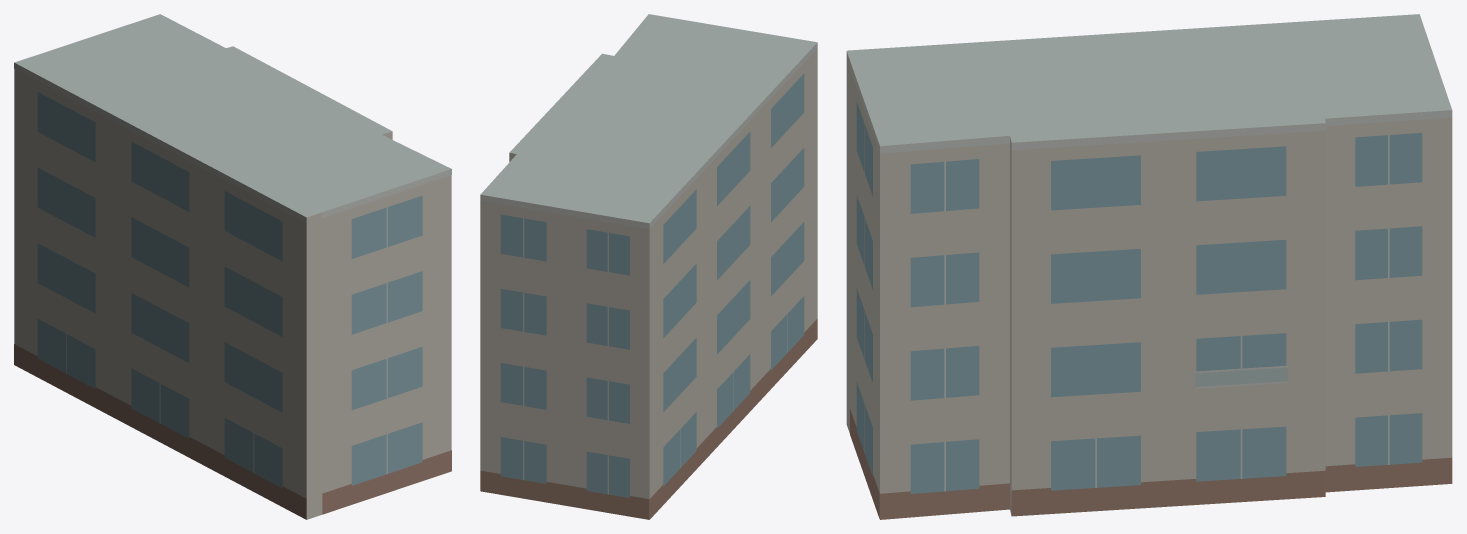
File: survey-upis-32705922.glb
The picture shows the model from 3 angles, left to right: view 1: azimuth 30°, elevation 25°; view 2: azimuth 150°, elevation 25°; view 3: azimuth 270°, elevation 25°; orthographic projection. The views are drawn at different scales.
Visible parts, largest first — view 1: survey-upis-32705922.tmp; view 2: survey-upis-32705922.tmp; view 3: survey-upis-32705922.tmp.
Part boxes in pixels (box(x1,y1,x2,y2)): survey-upis-32705922.tmp: box(14, 14, 451, 519); survey-upis-32705922.tmp: box(480, 14, 817, 519); survey-upis-32705922.tmp: box(846, 14, 1452, 519).
Size of the model in its own units: 9.27 by 12.2 by 17.93.
